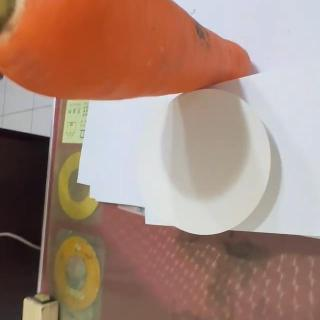carrot: (0, 0, 252, 101)
